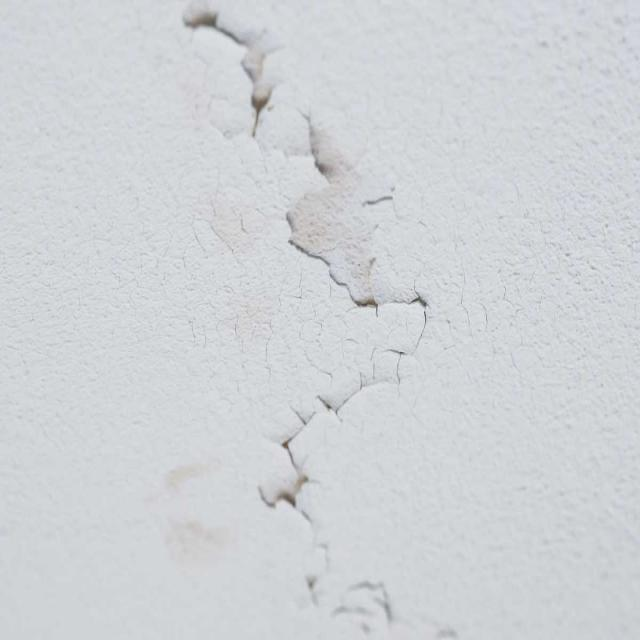leak: (178, 1, 431, 640)
